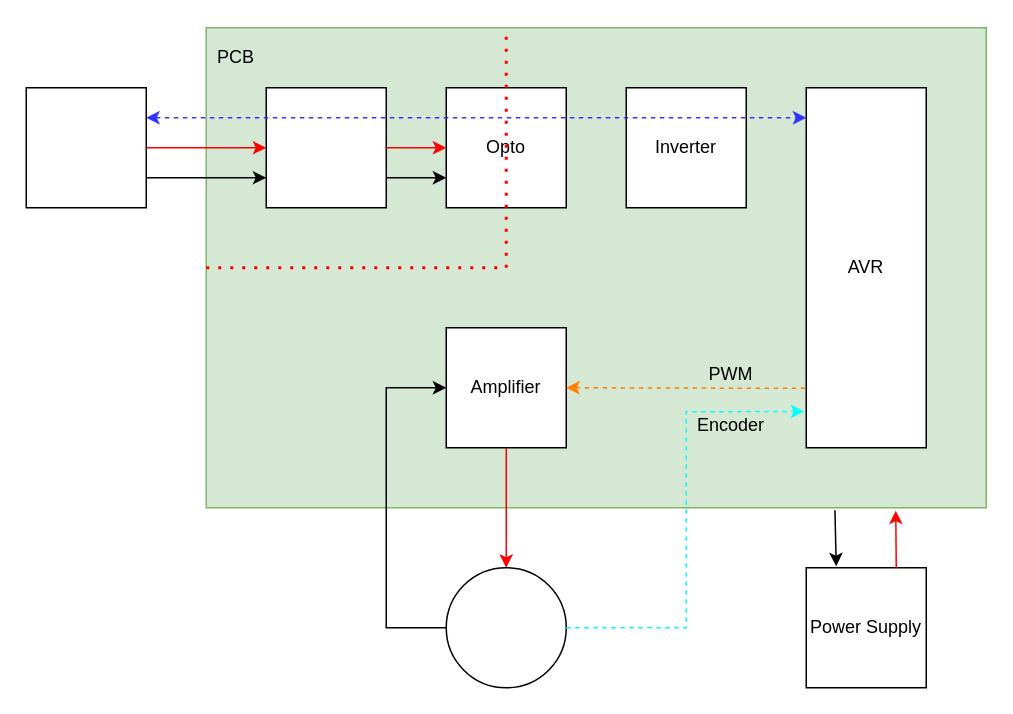
The diagram is 1013 pixels wide and 714 high, and some of its shapes have lost their labels. Here are the shapes that lost their labels. From the top down, the centre of each, then its label:
(x=85, y=147): PC
(x=325, y=147): Serial
(x=505, y=627): Motor
